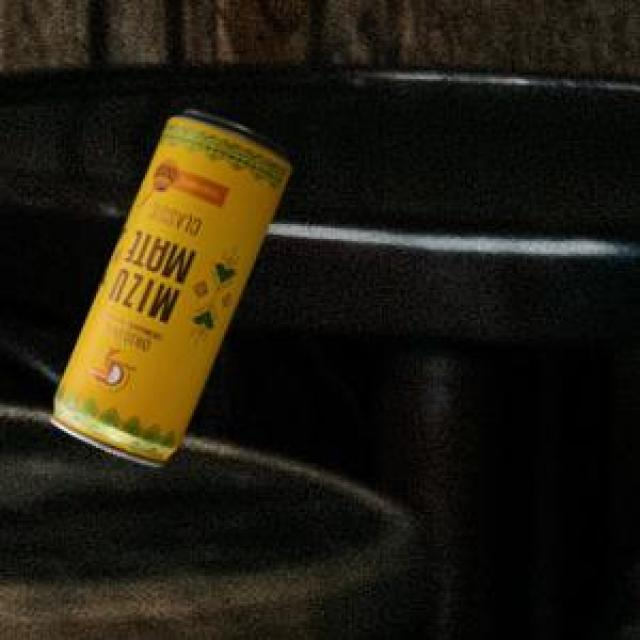logam: (48, 106, 289, 464)
